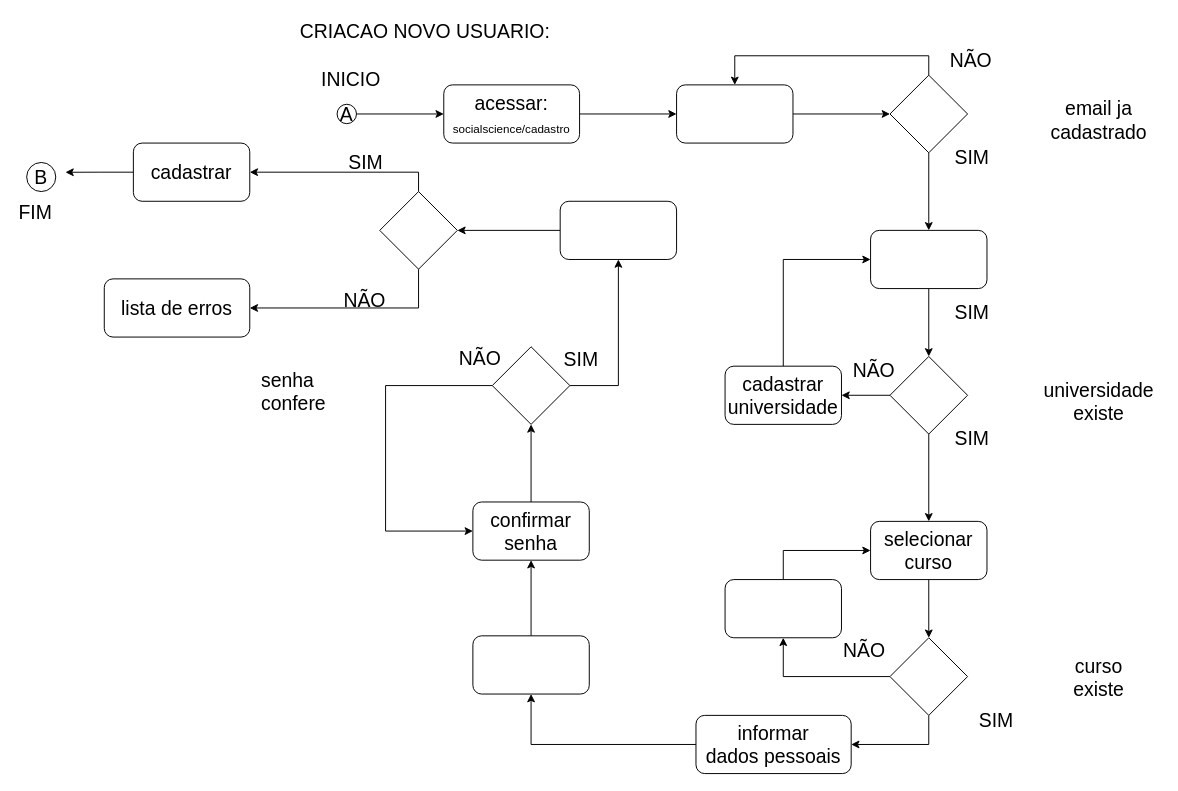
The diagram is 1178 pixels wide and 791 high, and some of its shapes have lost their labels. Each missing label, with the centre of its shape:
"cadastrar curso" goes at pixel 782 608.
"informar email" goes at pixel 734 113.
"informar senha" goes at pixel 530 664.
"selecionar universidade" goes at pixel 928 259.
"validar dados" goes at pixel 618 229.
